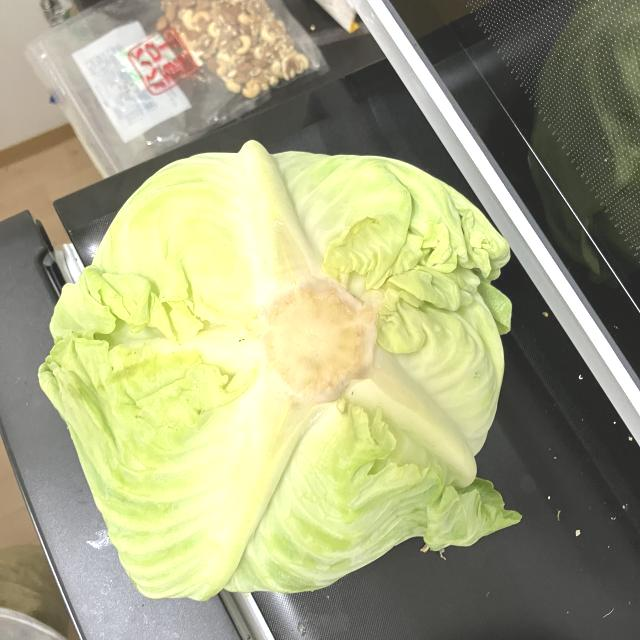cabbage: (33, 139, 525, 610)
